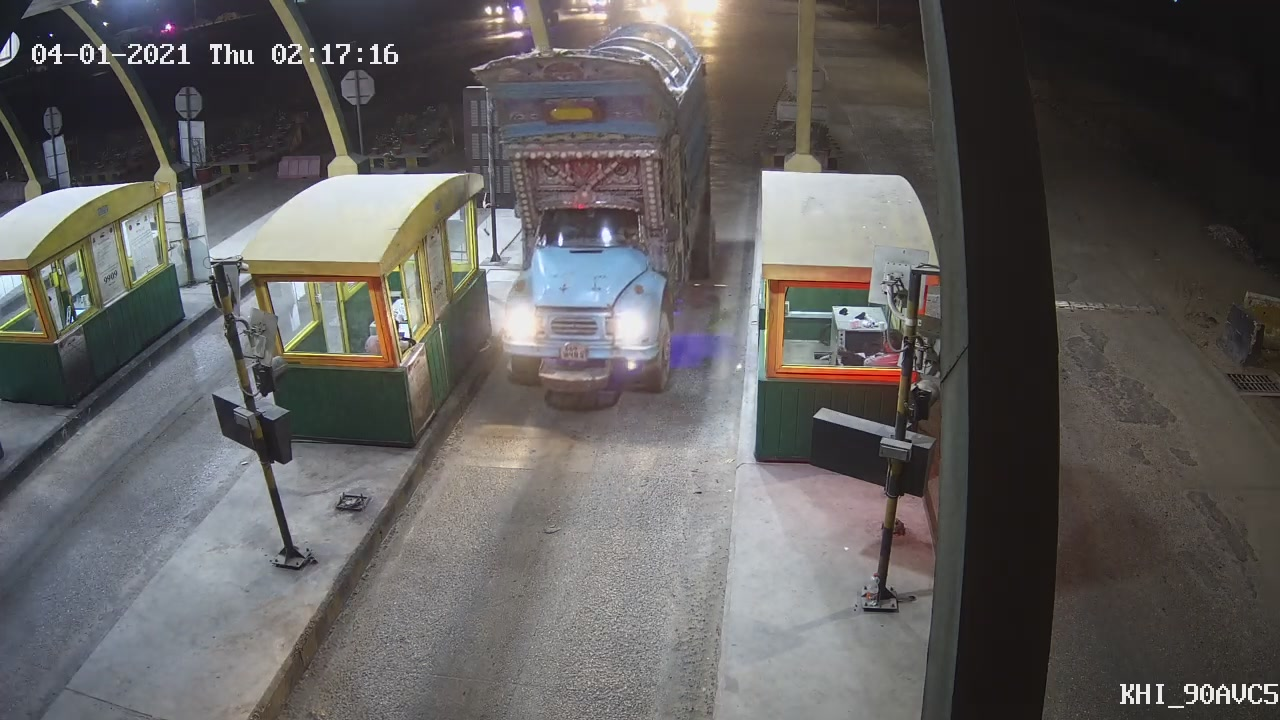F5: (450, 31, 717, 408)
